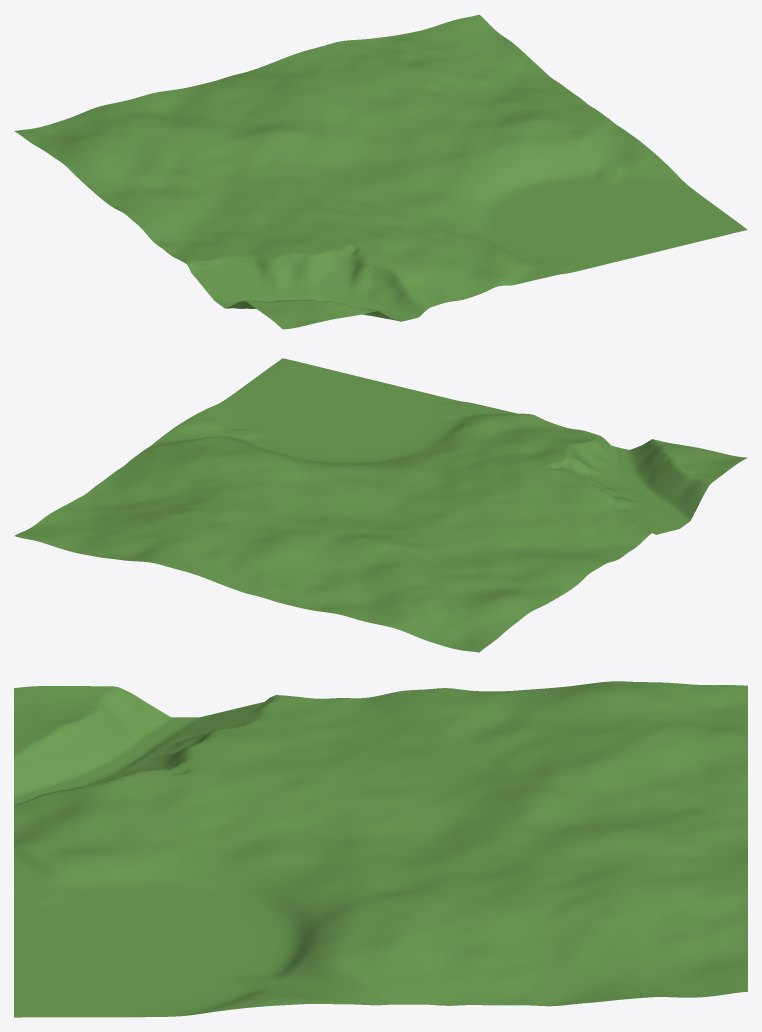
The model's file is SM_Terrain_05_05.fbx.
3 views of the same model, one above another, from view 1: azimuth 30°, elevation 25°; view 2: azimuth 150°, elevation 25°; view 3: azimuth 270°, elevation 25° (orthographic). The views are drawn at different scales.
Parts seen in each view (by area): view 1: SM_Terrain_05_05; view 2: SM_Terrain_05_05; view 3: SM_Terrain_05_05.
Boxes of the visible parts, x1=… form: SM_Terrain_05_05: x1=14, y1=14, x2=747, y2=329; SM_Terrain_05_05: x1=14, y1=358, x2=747, y2=652; SM_Terrain_05_05: x1=14, y1=681, x2=747, y2=1017.
Bounding box in the file's own units: 384 × 27.44 × 384.
